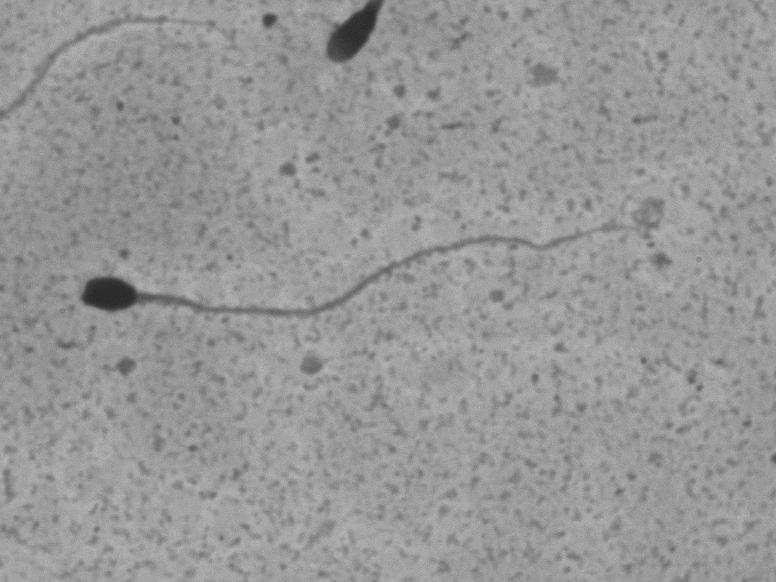Abnormal: (75, 205, 655, 343)
